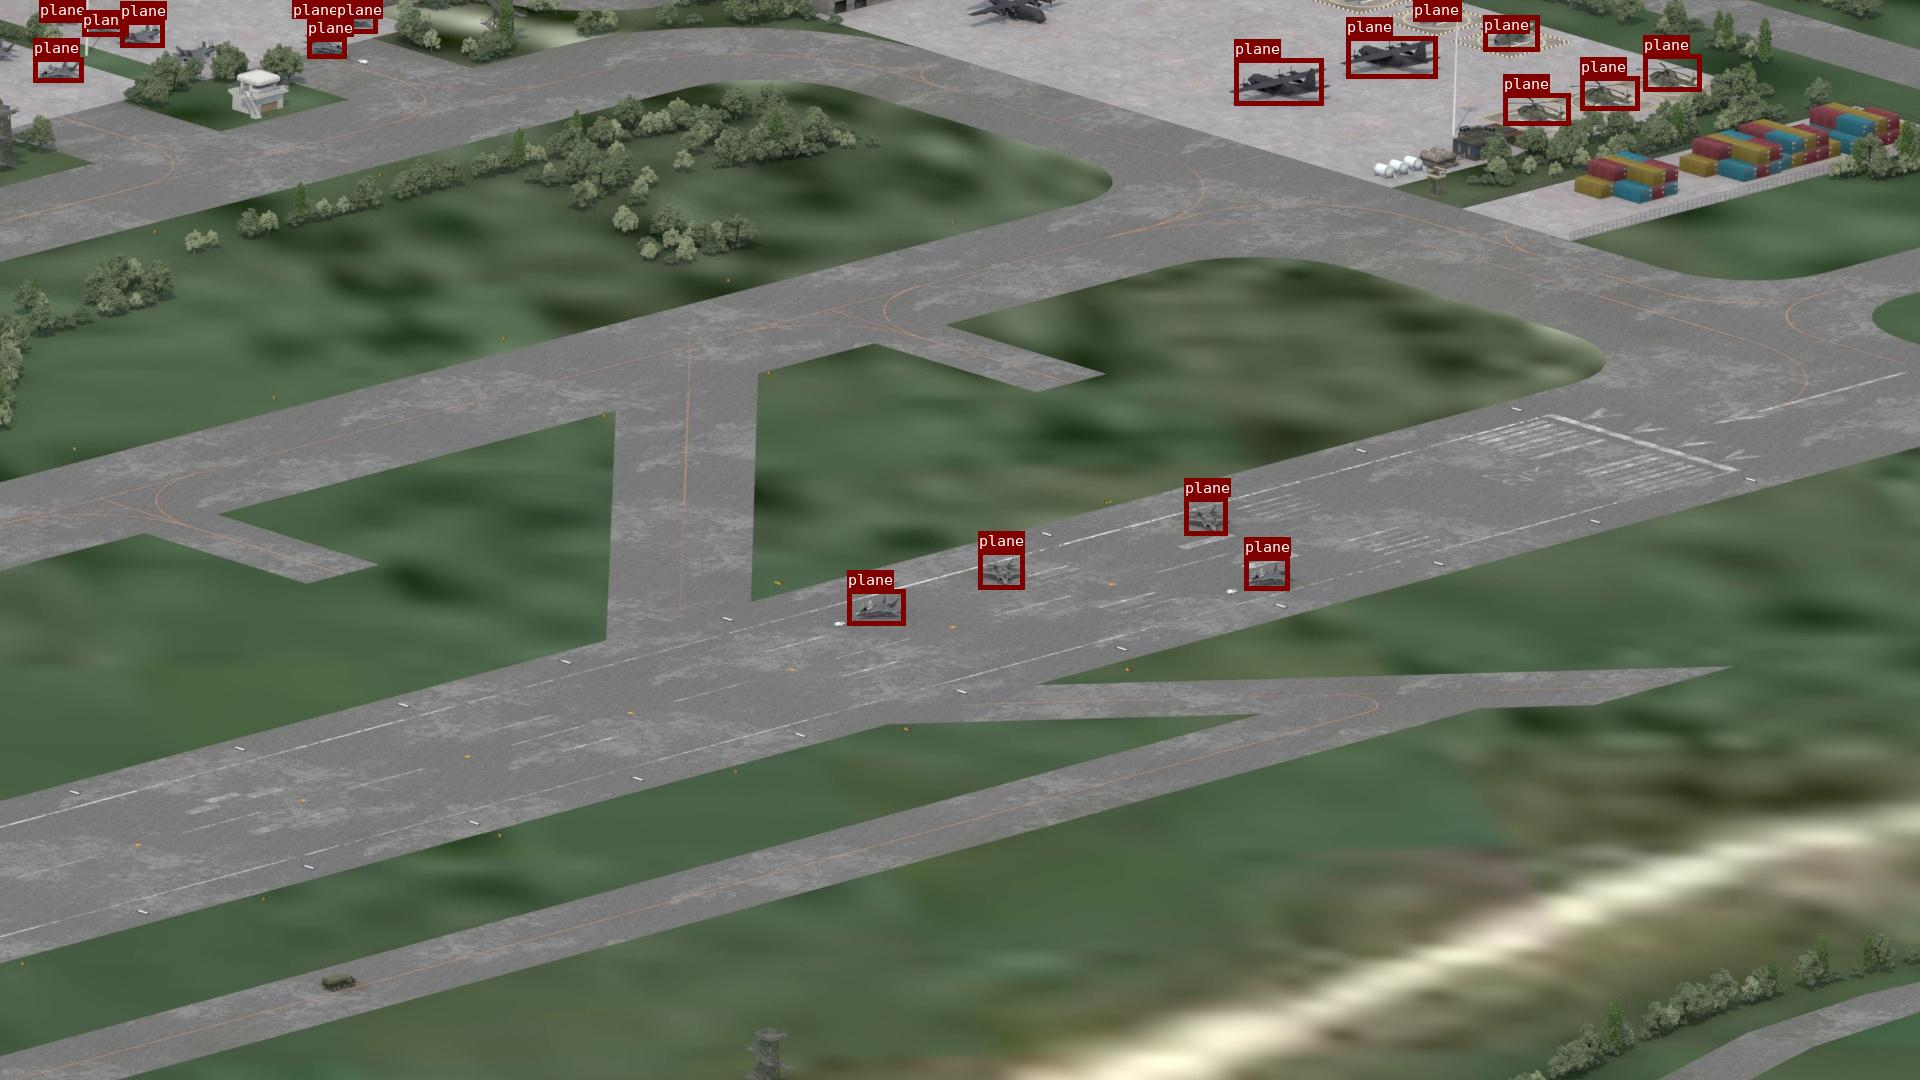plane: (1234, 58, 1323, 105), (1346, 36, 1437, 78), (1643, 54, 1701, 91), (1503, 94, 1571, 125), (847, 589, 905, 625), (1484, 15, 1539, 51), (1580, 76, 1639, 109), (978, 550, 1025, 589), (1184, 497, 1226, 535), (1244, 556, 1288, 589), (336, 0, 377, 33), (33, 57, 83, 82), (120, 20, 164, 47), (82, 11, 128, 36), (40, 0, 84, 22), (1414, 0, 1461, 21), (307, 37, 345, 58), (291, 0, 327, 15)
